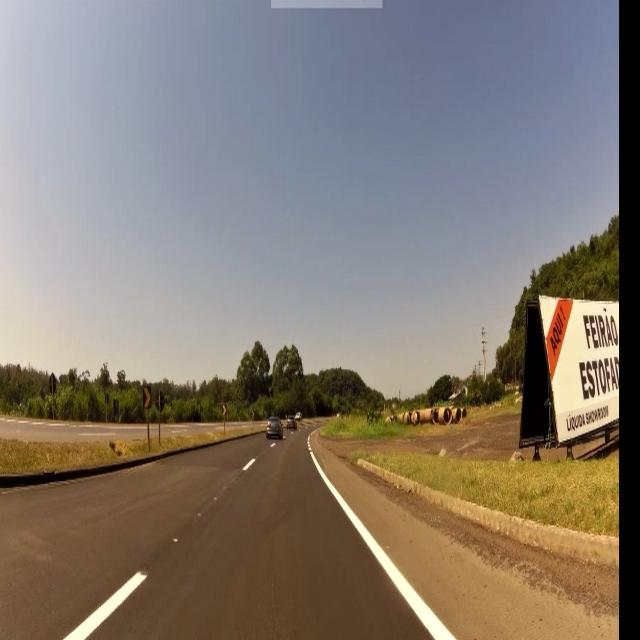Del: (142, 384, 152, 414)
